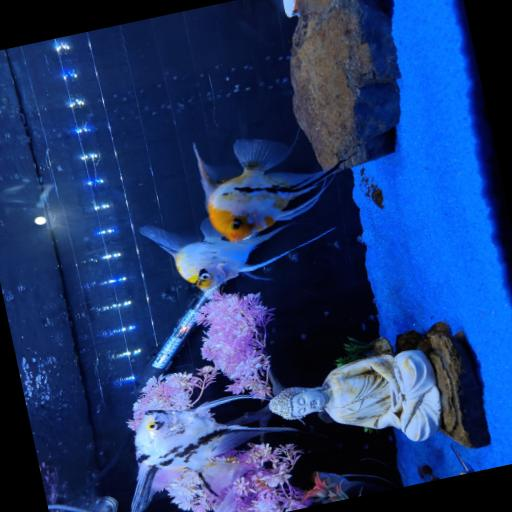Fish: (132, 396, 296, 511), (194, 139, 346, 242), (140, 219, 334, 289), (305, 472, 391, 503), (216, 490, 237, 511)
